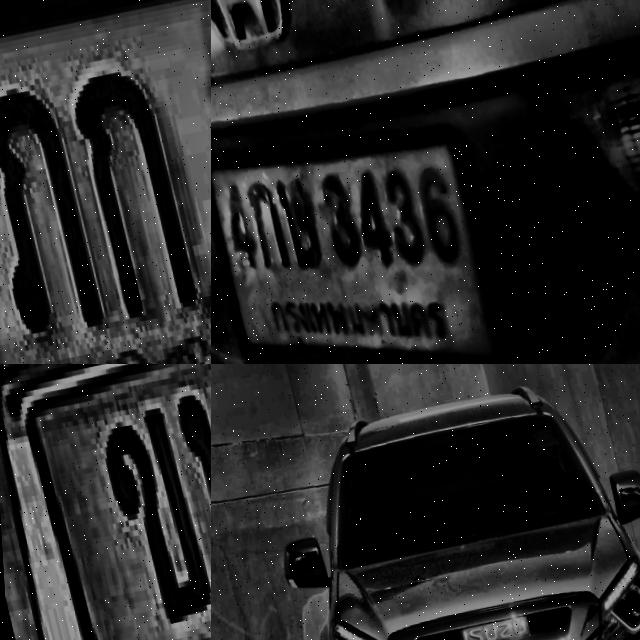license-plate: (0, 0, 211, 364), (211, 121, 500, 364), (0, 364, 211, 640)
